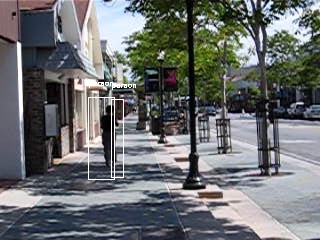person: (100, 105, 119, 169), (99, 105, 118, 169), (101, 105, 120, 169), (100, 104, 119, 168), (100, 106, 119, 170)
target_negative: (74, 58, 159, 201), (111, 91, 141, 197), (67, 80, 82, 198), (214, 200, 286, 222), (54, 191, 137, 198), (308, 65, 320, 77)
